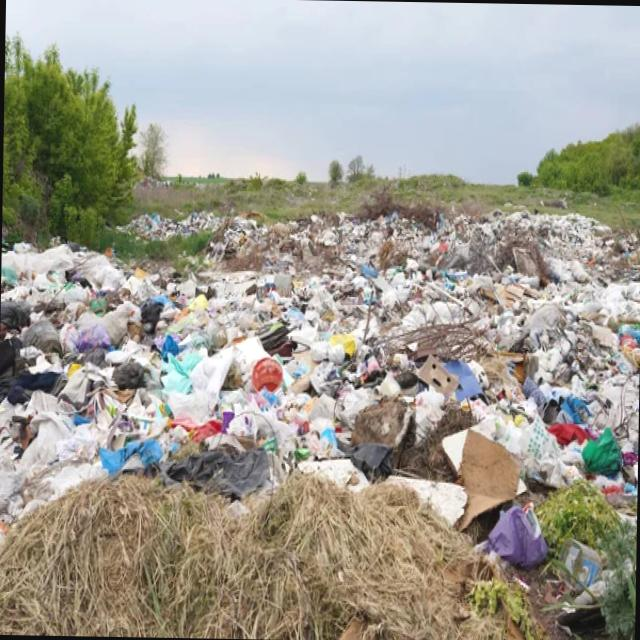garbage: (1, 188, 617, 534)
